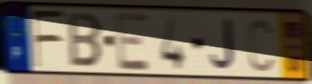4: (159, 14, 189, 73)
B: (66, 11, 104, 70)
C: (246, 17, 275, 74)
E: (113, 11, 152, 73)
F: (30, 9, 67, 71)
J: (209, 17, 237, 72)
